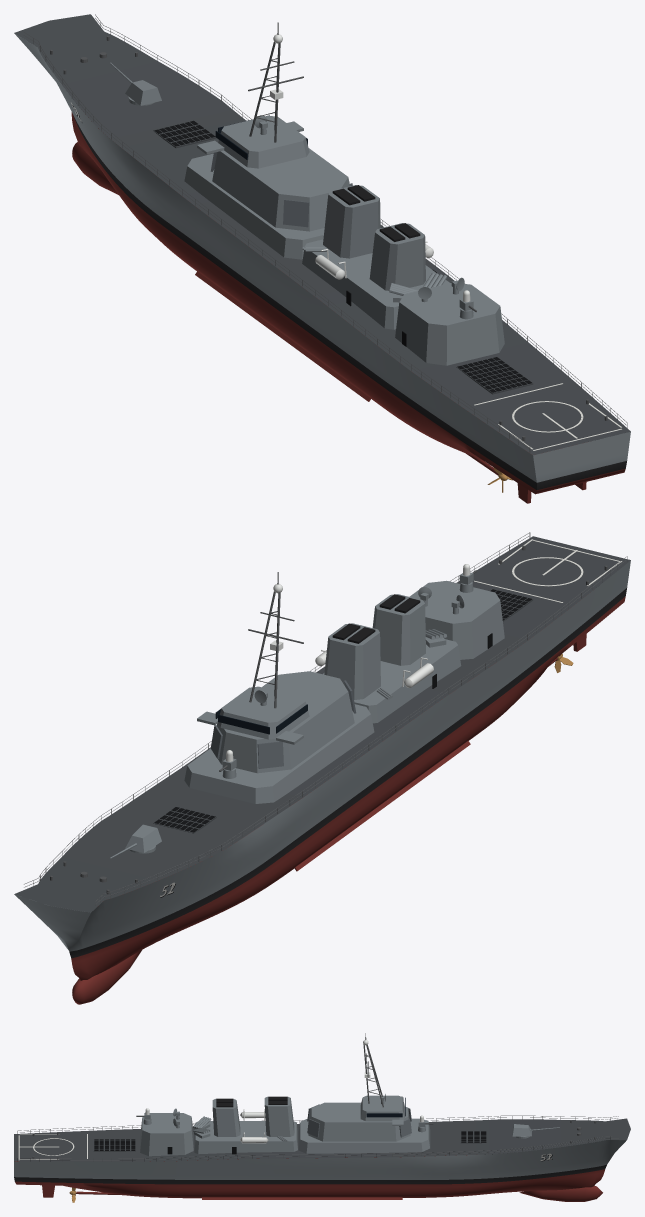
Rendered from burke.glb.
The picture shows the model from 3 angles, top to bottom: view 1: azimuth 30°, elevation 25°; view 2: azimuth 150°, elevation 25°; view 3: azimuth 270°, elevation 25°; orthographic projection. The views are drawn at different scales.
Visible parts, largest first — view 1: Weather deck, Hull (waterline at Z=0), Aft deckhouse, Forward deckhouse SPY-1D levels, Funnels, Forward deckhouse 01 level, Midships deckhouse, Pilot house, Deck-edge guard rails, VLS hatches, Mk 41 VLS (29 + 61 cells), CIWS, illuminators, Harpoon & torpedo tubes (+7 smaller); view 2: Hull (waterline at Z=0), Weather deck, Forward deckhouse SPY-1D levels, Funnels, Forward deckhouse 01 level, Aft deckhouse, Midships deckhouse, Pilot house, Deck-edge guard rails, CIWS, illuminators, Harpoon & torpedo tubes, VLS hatches, SQS-53 sonar dome (+8 smaller); view 3: Hull (waterline at Z=0), Weather deck, Forward deckhouse SPY-1D levels, Forward deckhouse 01 level, Midships deckhouse, Aft deckhouse, Funnels, Deck-edge guard rails, Pilot house, SQS-53 sonar dome, VLS hatches, CIWS, illuminators, Harpoon & torpedo tubes (+9 smaller).
Boxes of the visible parts, x1,y1,x2,y2 form: Weather deck: (14,14,630,455); Hull (waterline at Z=0): (14,33,630,494); Aft deckhouse: (395,283,504,365); Forward deckhouse SPY-1D levels: (212,148,349,231); Funnels: (323,185,425,290); Forward deckhouse 01 level: (184,153,324,259); Midships deckhouse: (302,239,449,329); Pilot house: (218,115,309,168); Deck-edge guard rails: (23,14,627,452); VLS hatches: (154,120,531,392); Mk 41 VLS (29 + 61 cells): (153,120,533,394); CIWS, illuminators, Harpoon & torpedo tubes: (255,115,473,319); Hull (waterline at Z=0): (14,560,630,980); Weather deck: (14,536,630,912); Forward deckhouse SPY-1D levels: (216,671,354,773); Funnels: (324,594,425,699); Forward deckhouse 01 level: (184,704,374,803); Aft deckhouse: (409,580,504,659); Midships deckhouse: (323,639,461,723); Pilot house: (217,686,309,739); Deck-edge guard rails: (24,532,627,904); CIWS, illuminators, Harpoon & torpedo tubes: (222,572,473,778); VLS hatches: (154,589,531,832); SQS-53 sonar dome: (72,950,141,1004); Hull (waterline at Z=0): (14,1140,626,1198); Weather deck: (14,1118,630,1161); Forward deckhouse SPY-1D levels: (308,1102,410,1141); Forward deckhouse 01 level: (298,1118,430,1153); Midships deckhouse: (194,1121,297,1154); Aft deckhouse: (140,1113,193,1156); Funnels: (212,1096,294,1136); Deck-edge guard rails: (17,1115,618,1161); Pilot house: (360,1095,404,1121); SQS-53 sonar dome: (519,1186,602,1201); VLS hatches: (94,1131,486,1150); CIWS, illuminators, Harpoon & torpedo tubes: (143,1094,425,1141).
Bounding box in the file's own units: 20.3 × 46.36 × 154.
